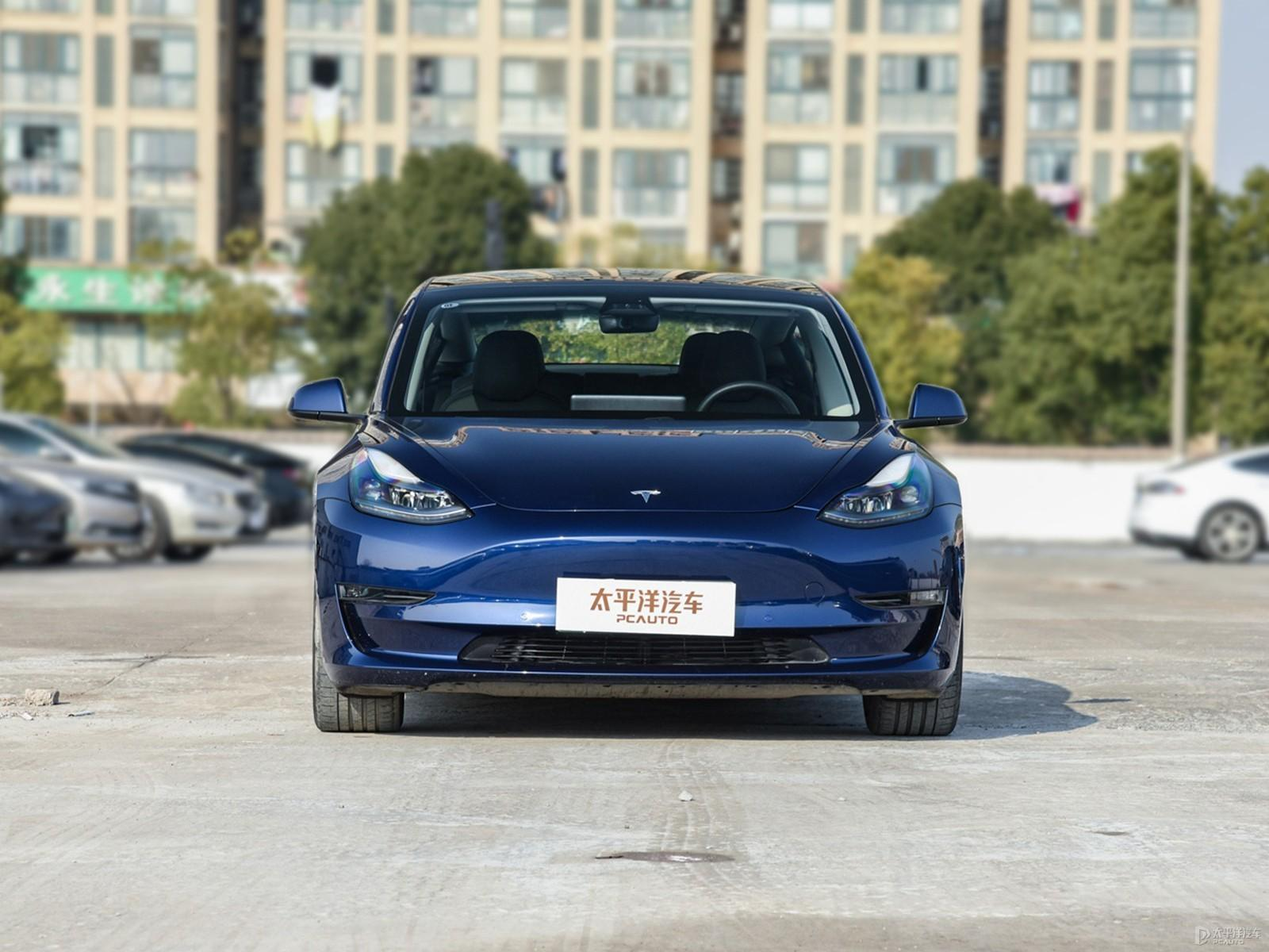Tesla: (630, 489, 661, 504)
